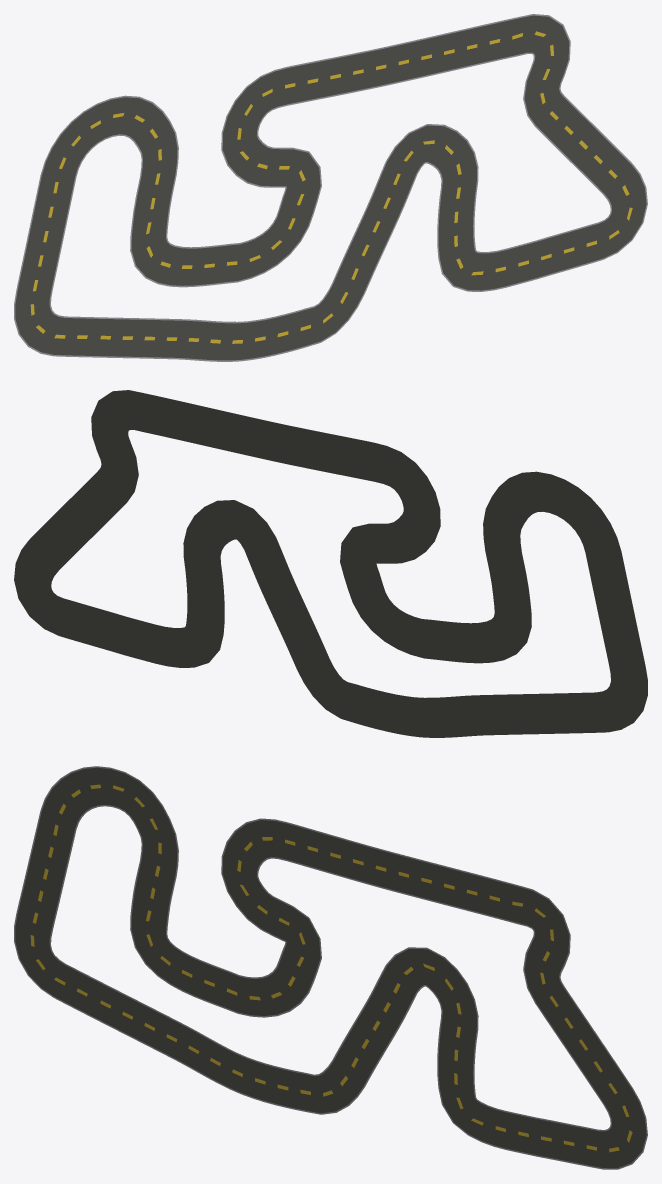
Rendered from track.obj.
3 renders of one model, top to bottom at view 1: azimuth 30°, elevation 25°; view 2: azimuth 150°, elevation 25°; view 3: azimuth 330°, elevation 25°, orthographic.
Bounding box in the file's own units: 18.11 × 8.12 × 0.002.
